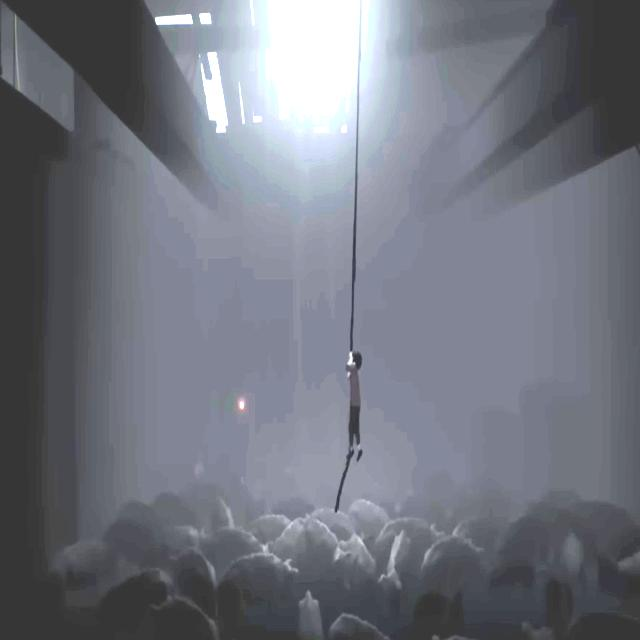boy: (346, 350, 363, 462)
